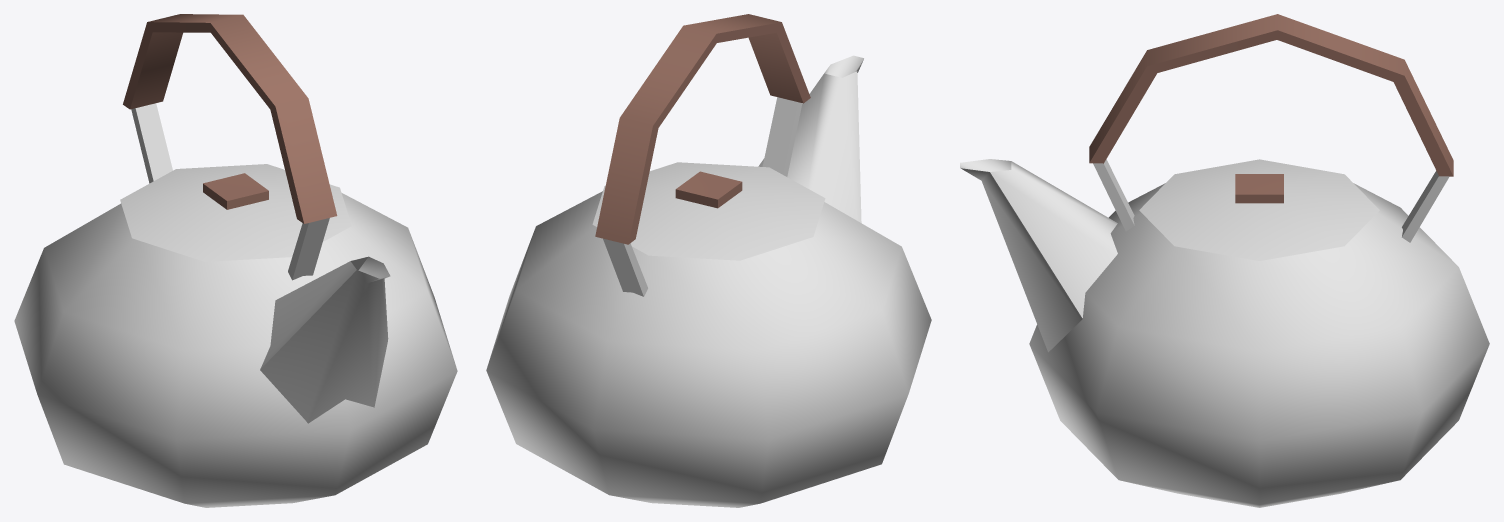
The model's file is prop_047.glb.
The picture shows the model from 3 angles, left to right: view 1: azimuth 30°, elevation 25°; view 2: azimuth 150°, elevation 25°; view 3: azimuth 270°, elevation 25°; orthographic projection.
Visible parts, largest first — view 1: prop_047; view 2: prop_047; view 3: prop_047.
Part boxes in pixels (bbox=[...]): prop_047: bbox=[14, 14, 457, 507]; prop_047: bbox=[486, 14, 931, 507]; prop_047: bbox=[960, 14, 1489, 507].
Bounding box in the file's own units: 0.1891 × 0.198 × 0.2174.
Materials: 1 (1 with a texture image).
